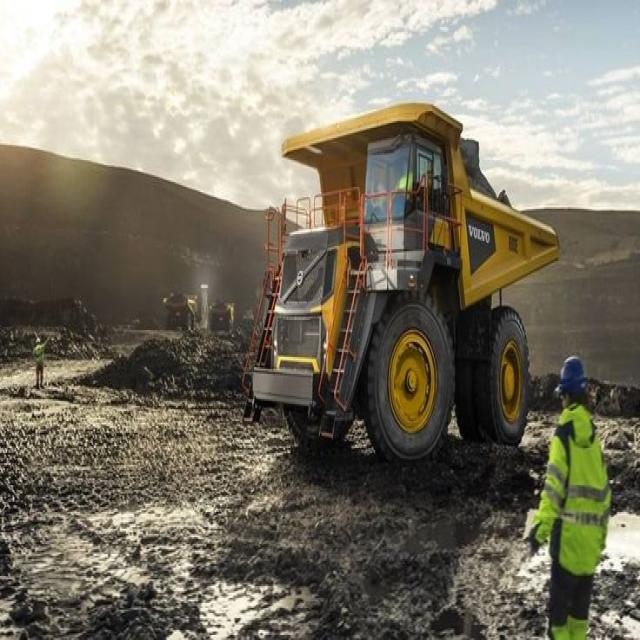dump_truck: (248, 106, 554, 450)
